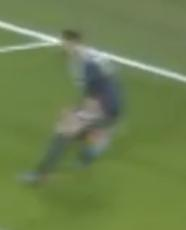goalkeeper: (10, 16, 147, 203)
